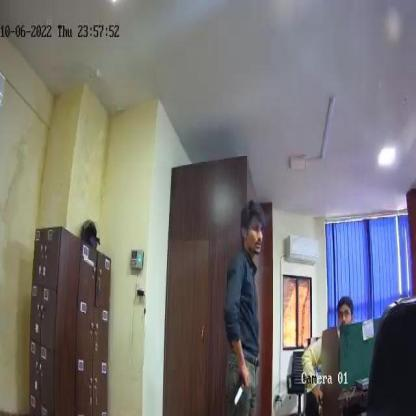Knife: (231, 370, 249, 407)
